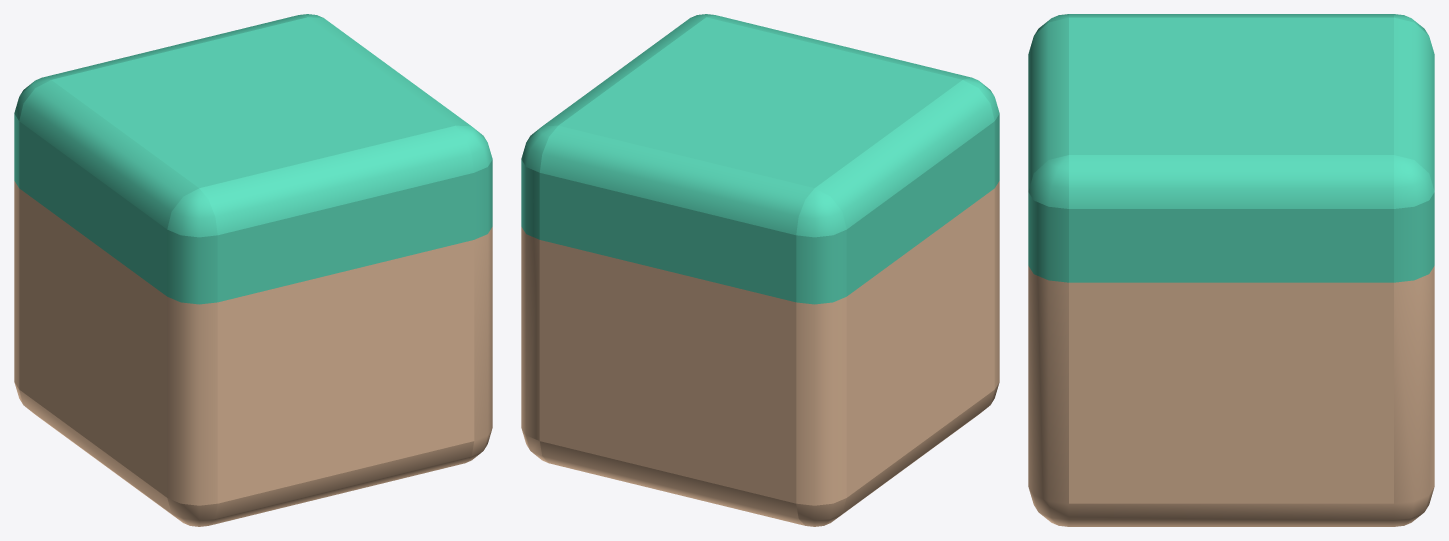
3 views of the same model, side by side, from view 1: azimuth 30°, elevation 25°; view 2: azimuth 150°, elevation 25°; view 3: azimuth 270°, elevation 25° (orthographic). The views are drawn at different scales.
Parts seen in each view (by area): view 1: blockRounded; view 2: blockRounded; view 3: blockRounded.
Part boxes in pixels (bbox=[...]): blockRounded: bbox=[14, 14, 492, 526]; blockRounded: bbox=[521, 14, 999, 526]; blockRounded: bbox=[1028, 14, 1434, 526].
Bounding box in the file's own units: 1 × 1 × 1.
